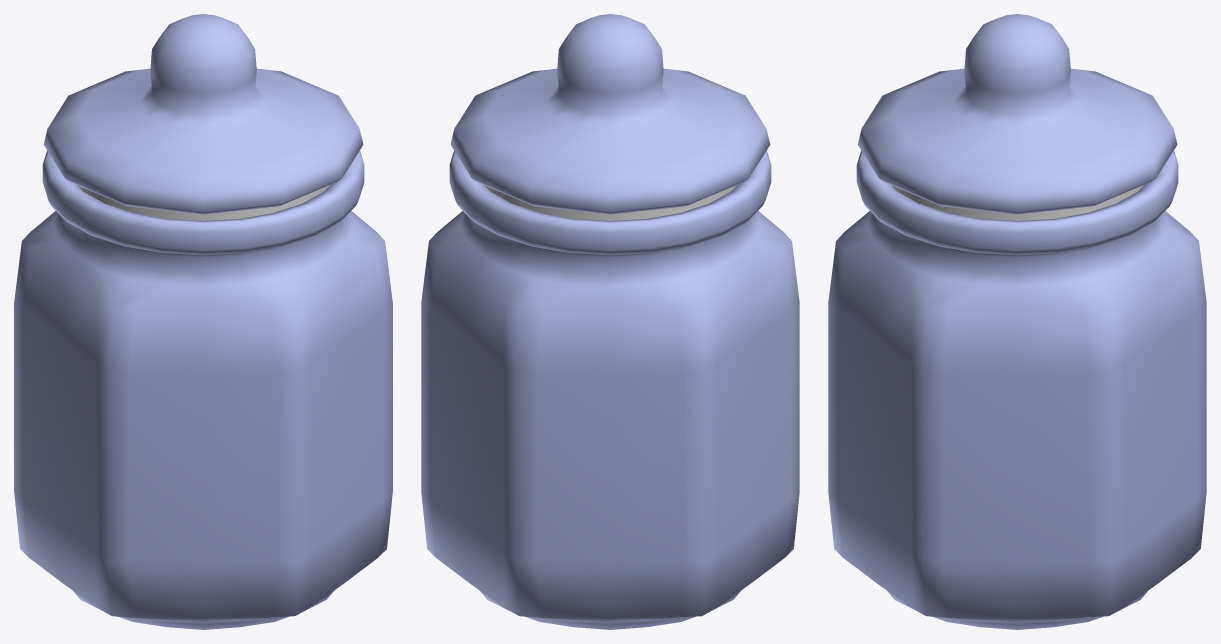
Rendered from jaaa.fbx.
The picture shows the model from 3 angles, left to right: view 1: azimuth 30°, elevation 25°; view 2: azimuth 150°, elevation 25°; view 3: azimuth 270°, elevation 25°; orthographic projection.
Visible parts, largest first — view 1: Jar_A.001, Jar_A, Jar_A.002; view 2: Jar_A.001, Jar_A, Jar_A.002; view 3: Jar_A.001, Jar_A, Jar_A.002.
Boxes of the visible parts, bbox=[...] form: Jar_A.001: bbox=[14, 150, 392, 629]; Jar_A: bbox=[43, 14, 363, 214]; Jar_A.002: bbox=[77, 185, 329, 220]; Jar_A.001: bbox=[421, 150, 799, 629]; Jar_A: bbox=[450, 14, 770, 214]; Jar_A.002: bbox=[484, 185, 736, 220]; Jar_A.001: bbox=[828, 150, 1206, 629]; Jar_A: bbox=[857, 14, 1177, 214]; Jar_A.002: bbox=[891, 185, 1143, 220].
Size of the model in its own units: 53.73 by 61.56 by 98.8.
